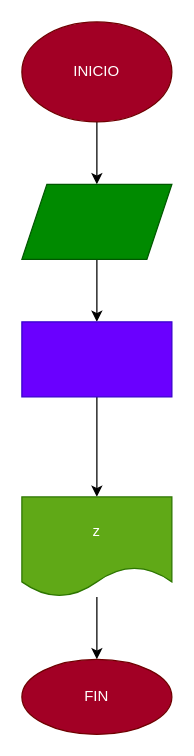
The diagram is 194 pixels wide and 756 high, and some of its shapes have lost their labels. The centre of each missing label's shape, as x and y in pixels:
"x,y" belongs at [96,221].
"z = x^y" belongs at [96,359].
